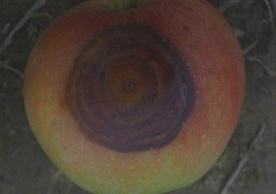rotten apple: (16, 1, 247, 193)
